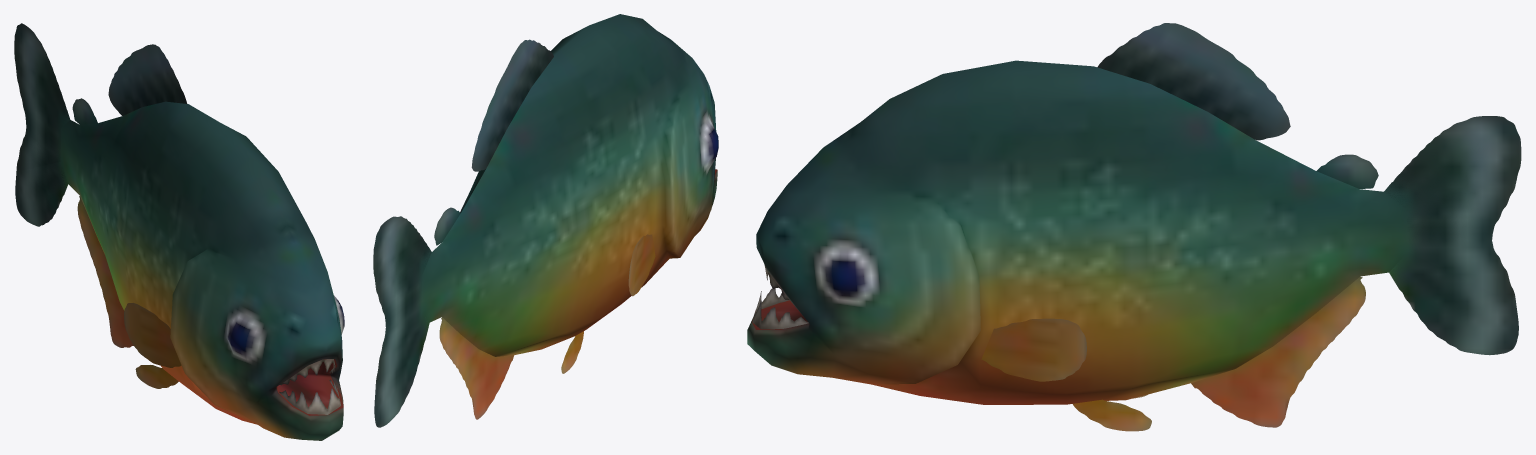
The model's file is piranha.glb.
The picture shows the model from 3 angles, left to right: view 1: azimuth 30°, elevation 25°; view 2: azimuth 150°, elevation 25°; view 3: azimuth 270°, elevation 25°; orthographic projection. The views are drawn at different scales.
Bounding box in the file's own units: 1.41 × 3.09 × 5.13.
Materials: 1 (1 with a texture image).
